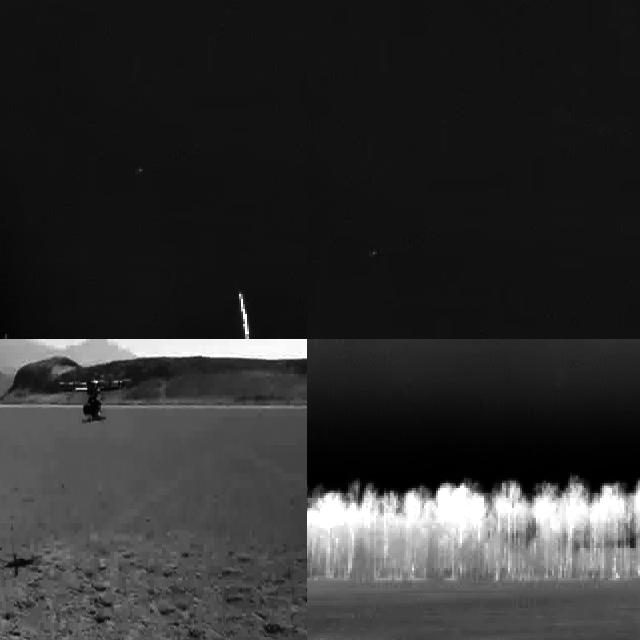0: (133, 160, 153, 186), (367, 245, 387, 267)
drone: (61, 378, 130, 424)
